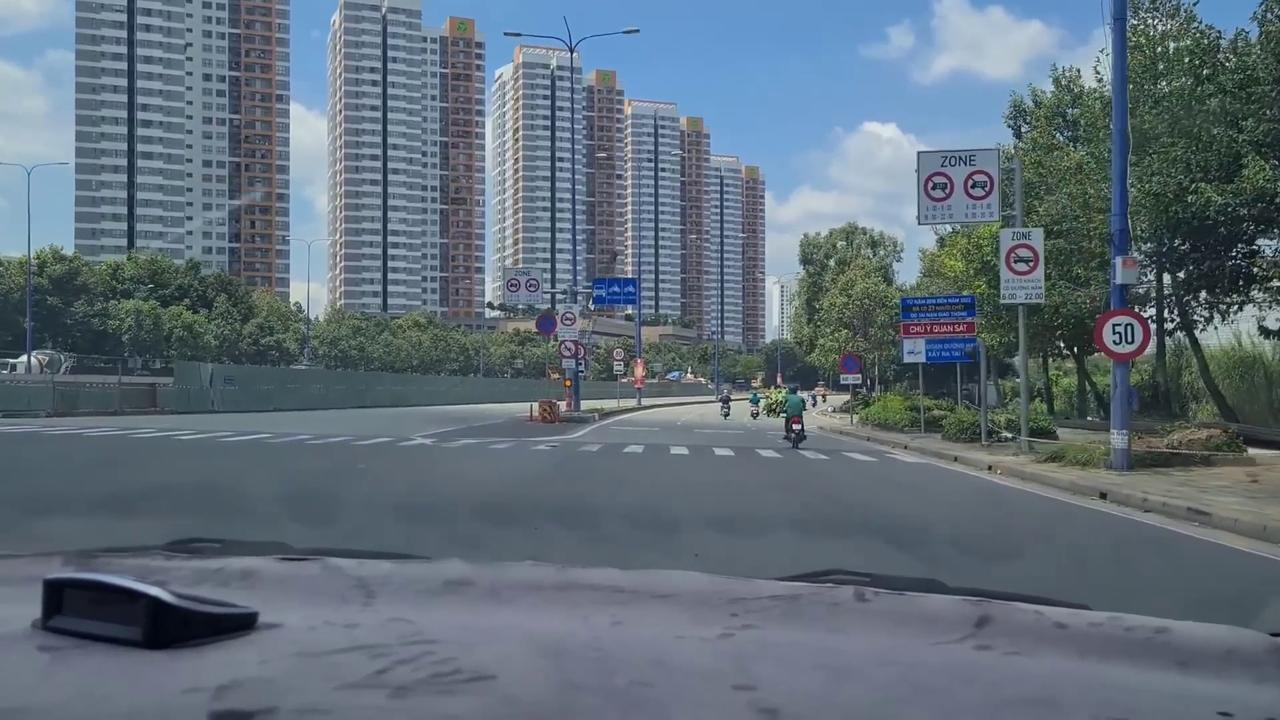Biển phụ: (613, 361, 624, 375)
Cấm cac phương tiện hoạt động trong khung giờ cố định: (913, 149, 1003, 225), (997, 226, 1048, 305), (503, 266, 544, 305), (557, 303, 581, 340)
Cấm dừng - Cấm đỗ: (534, 308, 557, 336), (838, 351, 864, 375)
Cấm xe máy: (558, 340, 576, 360)
Giới hạn tốc độ 50Km/h: (1091, 306, 1153, 362)
Giới hạn tốc độ 80Km/h: (612, 346, 626, 361)
Khác: (896, 295, 980, 362)
Làn đường cho từng xe: (590, 277, 639, 306)
